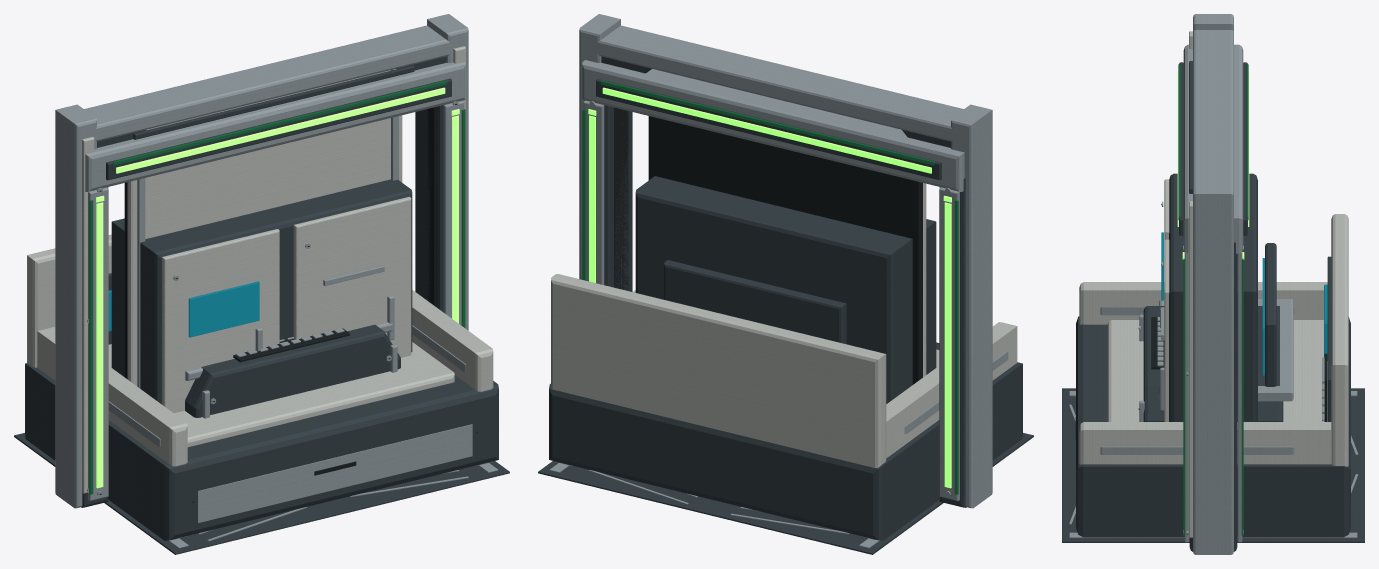
The model's file is genesis-cinematic-kit.glb.
3 views of the same model, side by side, from view 1: azimuth 30°, elevation 25°; view 2: azimuth 150°, elevation 25°; view 3: azimuth 270°, elevation 25° (orthographic). The views are drawn at different scales.
Parts seen in each view (by area): view 1: sleep-berth__graphite, life-support__composite, pressure-rib__titanium, sleep-berth__composite, wall-cassette__composite, green-airlock__titanium, life-support__graphite, sleep-berth__titanium, operator-console__graphite, green-airlock__graphite, green-airlock__green, floor-cassette__graphite (+11 smaller); view 2: sleep-berth__composite, sleep-berth__graphite, life-support__graphite, pressure-rib__titanium, green-airlock__titanium, wall-cassette__rubber, green-airlock__graphite, operator-console__graphite, green-airlock__green, floor-cassette__graphite, green-airlock__reflection, green-airlock__rubber (+3 smaller); view 3: sleep-berth__composite, pressure-rib__titanium, sleep-berth__graphite, life-support__graphite, green-airlock__titanium, floor-cassette__graphite, operator-console__graphite, green-airlock__graphite, green-airlock__reflection, operator-console__titanium, sleep-berth__titanium, pressure-rib__composite (+6 smaller).
Part boxes in pixels (box(x1,y1,x2,y2)): sleep-berth__graphite: box(25, 273, 498, 540); life-support__composite: box(162, 196, 411, 413); pressure-rib__titanium: box(55, 14, 468, 508); sleep-berth__composite: box(27, 234, 493, 540); wall-cassette__composite: box(127, 70, 402, 386); green-airlock__titanium: box(85, 61, 465, 500); life-support__graphite: box(111, 179, 412, 404); sleep-berth__titanium: box(108, 325, 472, 523); operator-console__graphite: box(185, 324, 400, 417); green-airlock__graphite: box(81, 78, 451, 507); green-airlock__green: box(96, 87, 459, 488); floor-cassette__graphite: box(14, 433, 509, 554); sleep-berth__composite: box(551, 274, 1017, 540); sleep-berth__graphite: box(549, 342, 1022, 540); life-support__graphite: box(635, 176, 936, 403); pressure-rib__titanium: box(579, 14, 992, 508); green-airlock__titanium: box(582, 60, 964, 500); wall-cassette__rubber: box(648, 116, 922, 384); green-airlock__graphite: box(584, 78, 966, 507); operator-console__graphite: box(664, 260, 846, 344); green-airlock__green: box(588, 87, 951, 488); floor-cassette__graphite: box(538, 433, 1033, 554); green-airlock__reflection: box(582, 80, 958, 494); green-airlock__rubber: box(614, 107, 628, 289); sleep-berth__composite: box(1079, 214, 1348, 466); pressure-rib__titanium: box(1186, 14, 1233, 554); sleep-berth__graphite: box(1076, 256, 1350, 537); life-support__graphite: box(1169, 173, 1257, 421); green-airlock__titanium: box(1183, 44, 1243, 542); floor-cassette__graphite: box(1062, 388, 1364, 542); operator-console__graphite: box(1143, 243, 1283, 421); green-airlock__graphite: box(1179, 62, 1247, 551); green-airlock__reflection: box(1178, 64, 1248, 535); operator-console__titanium: box(1139, 299, 1293, 421); sleep-berth__titanium: box(1100, 307, 1324, 454); pressure-rib__composite: box(1189, 31, 1192, 537).
Bounding box in the file's own units: 3.94 × 3.85 × 2.8.
7 materials, 4 textured.
